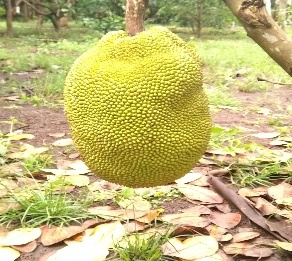Mit: (60, 31, 215, 186)
